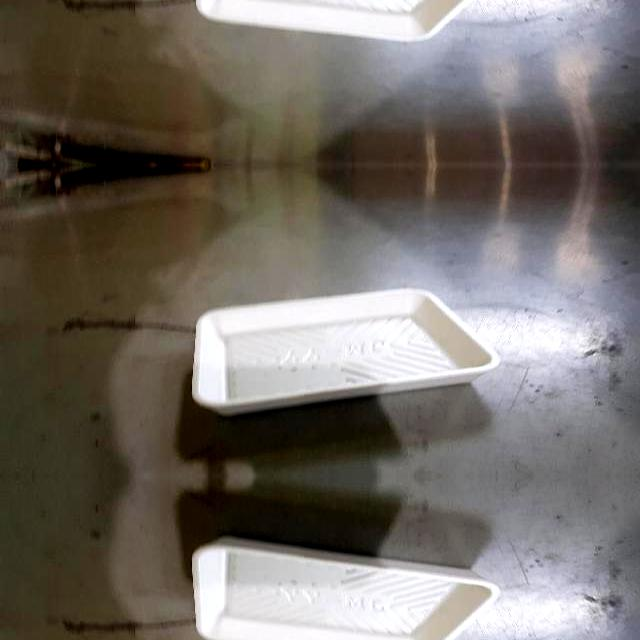Styrofoam: (190, 286, 500, 416), (192, 288, 500, 414), (190, 533, 499, 640), (192, 536, 500, 640), (190, 0, 499, 42), (196, 0, 470, 40)
